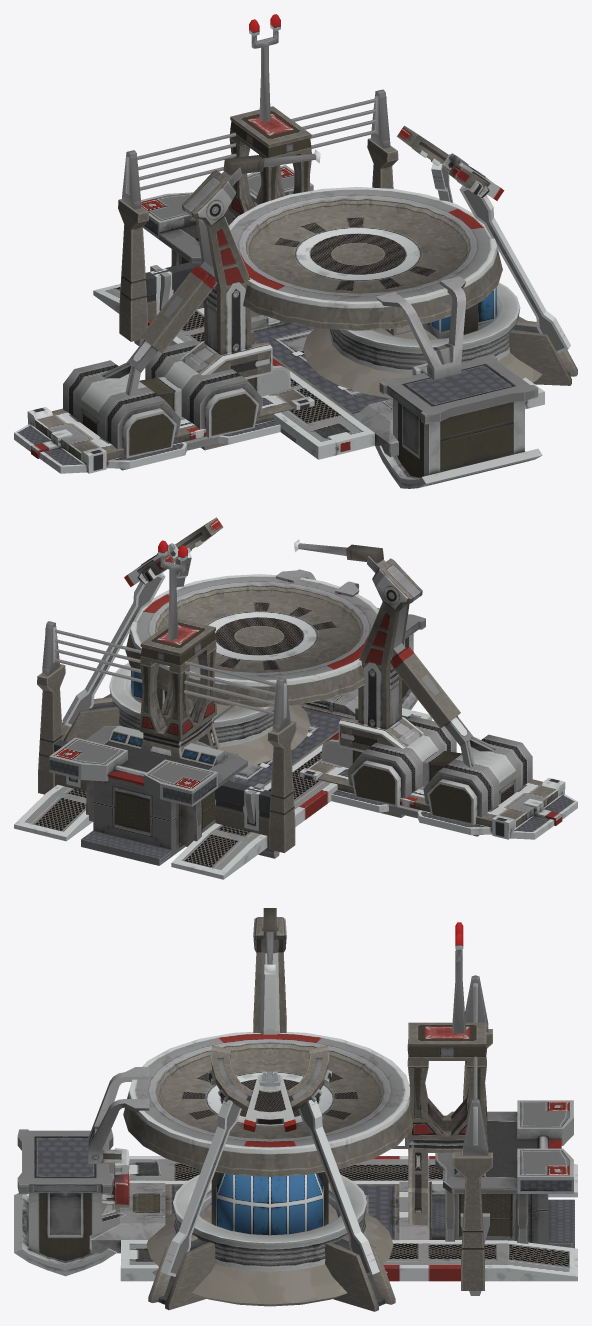
Rendered from Building - 11-C0srzUI0.glb.
3 renders of one model, top to bottom at view 1: azimuth 30°, elevation 25°; view 2: azimuth 150°, elevation 25°; view 3: azimuth 270°, elevation 25°, orthographic. The views are drawn at different scales.
Parts seen in each view (by area): view 1: Pad_04, Addon_04, Pad_02, Pylon_03, Pad_01, Addon_07 (1), Addon_07, Addon_05, Pylon_01, Column_08, Simlpe_form_10, Main_form_07 (+13 smaller); view 2: Pad_04, Main_form_07, Pad_02, Pylon_03, Pylon_01, Pad_01, Addon_07 (1), Addon_07, Column_08, Addon_05, Column_03, Detail_05_tubes (×2) (+13 smaller); view 3: Pad_04, Pad_02, Main_form_07, Addon_04, Pylon_01, Addon_05, Windows_03, Simlpe_form_10, Addon_01, Pylon_08, Column_03 (1), Pylon_03 (+8 smaller).
Part boxes in pixels (box(x1,y1,x2,y2)): Pad_04: box(229, 187, 502, 330); Addon_04: box(375, 355, 542, 488); Pad_02: box(93, 284, 544, 459); Pylon_03: box(180, 167, 272, 379); Pad_01: box(14, 381, 314, 473); Addon_07 (1): box(63, 360, 181, 470); Addon_07: box(145, 340, 290, 450); Addon_05: box(329, 282, 520, 374); Pylon_01: box(229, 106, 311, 317); Column_08: box(101, 261, 217, 396); Simlpe_form_10: box(303, 316, 542, 398); Main_form_07: box(141, 164, 313, 307); Pad_04: box(125, 574, 378, 707); Main_form_07: box(49, 725, 247, 865); Pad_02: box(14, 688, 432, 879); Pylon_03: box(338, 556, 423, 752); Pylon_01: box(139, 618, 220, 758); Pad_01: box(299, 753, 577, 839); Addon_07 (1): box(422, 734, 532, 836); Addon_07: box(322, 716, 456, 817); Column_08: box(389, 643, 497, 767); Addon_05: box(109, 662, 274, 747); Column_03: box(267, 720, 296, 852); Detail_05_tubes (×2): box(54, 629, 275, 714); Pad_04: box(123, 1031, 413, 1176); Pad_02: box(89, 1156, 577, 1281); Main_form_07: box(435, 1100, 574, 1248); Addon_04: box(14, 1129, 116, 1276); Pylon_01: box(407, 1022, 487, 1239); Addon_05: box(173, 1174, 366, 1271); Windows_03: box(211, 1172, 328, 1235); Simlpe_form_10: box(146, 1203, 393, 1306); Addon_01: box(208, 1045, 331, 1132); Pylon_08: box(88, 1067, 149, 1214); Column_03 (1): box(452, 1152, 492, 1290); Pylon_03: box(253, 917, 286, 1034).
Size of the model in its own units: 6.04 by 3.61 by 5.79.
9 materials, 9 textured.
